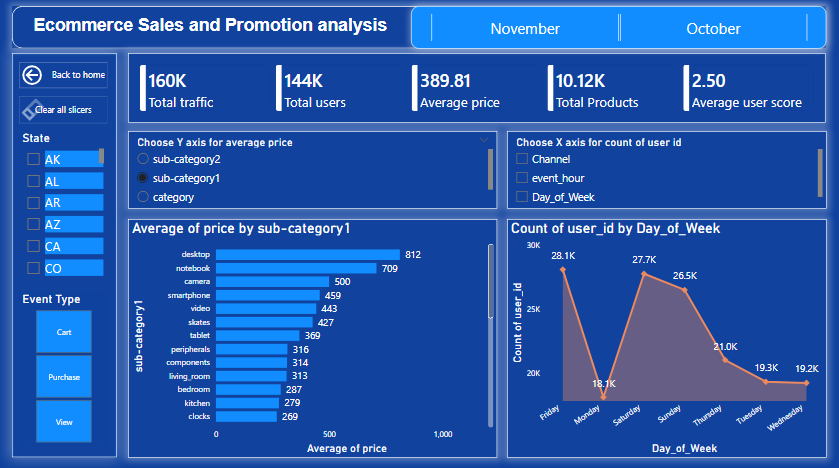

What the dashboard file says about the page in this screenshot:
{"tool":"powerbi","page":{"name":"User interaction and price analysis","canvas":[1280,720],"ordinal":1},"visuals":[{"type":"shape","box":[22.7,85.2,159.1,613.5],"z":0},{"type":"shape","box":[22.7,13.3,1234.6,64.4],"z":1000},{"type":"textbox","box":[49.3,22.8,1177.5,45.5],"z":2000},{"type":"barChart","fields":{"Category":["Sales_Data_Ecommerce.sub_category1"],"Y":["Avg(Sales_Data_Ecommerce.price)"]},"box":[198.1,337,560.2,362.1],"z":3000},{"type":"slicer","fields":{"Values":["Parameter.Parameter"]},"box":[198.1,202.5,560.2,118.2],"z":4000},{"type":"areaChart","fields":{"Category":["Sales_Data_Ecommerce.Day_of_Week","Sales_Data_Ecommerce.event_hour","Sales_Data_Ecommerce.Channel"],"Y":["CountNonNull(Sales_Data_Ecommerce.user_id)"]},"box":[773,337,484.8,362.1],"z":5000},{"type":"slicer","fields":{"Values":["Parameter.Parameter"]},"box":[773,202.5,484.8,118.2],"z":6000},{"type":"cardVisual","title":"Total traffic","fields":{"Data":["Choose X axis for avg price.Total traffic","Choose X axis for avg price.Total users","Choose X axis for avg price.Avg price","Choose X axis for avg price.Total Products","Choose X axis for avg price.Average user score"]},"box":[198.8,85.2,1058.5,106],"z":7000},{"type":"slicer","fields":{"Values":["Sales_Data_Ecommerce.Month"]},"box":[628.2,13.3,629.7,65],"z":8000},{"type":"slicer","title":"State","fields":{"Values":["Sales_Data_Ecommerce.State"]},"box":[34.1,202.6,134.4,231],"z":9000},{"type":"slicer","title":"Event Type","fields":{"Values":["Sales_Data_Ecommerce.event_type"]},"box":[34.1,446.9,134.4,234.8],"z":10000},{"type":"actionButton","box":[34.1,149.6,134.4,41.7],"z":11000},{"type":"actionButton","box":[34.1,98.5,134.4,39.8],"z":12000}]}

Visuals, with their boxes in screenshot pixels (x1, y1, x2, y2), scaled from the page's 1280x720 canvas onto the 839x468 screenshot:
shape: [15, 55, 119, 454]
shape: [15, 9, 824, 51]
textbox: [32, 15, 804, 44]
barChart - Sales_Data_Ecommerce.sub_category1 x Avg(Sales_Data_Ecommerce.price): [130, 219, 497, 454]
slicer - Parameter.Parameter: [130, 132, 497, 208]
areaChart - Sales_Data_Ecommerce.Day_of_Week x Sales_Data_Ecommerce.event_hour: [507, 219, 824, 454]
slicer - Parameter.Parameter: [507, 132, 824, 208]
"Total traffic" cardVisual: [130, 55, 824, 124]
slicer - Sales_Data_Ecommerce.Month: [412, 9, 825, 51]
"State" slicer: [22, 132, 110, 282]
"Event Type" slicer: [22, 290, 110, 443]
actionButton: [22, 97, 110, 124]
actionButton: [22, 64, 110, 90]
